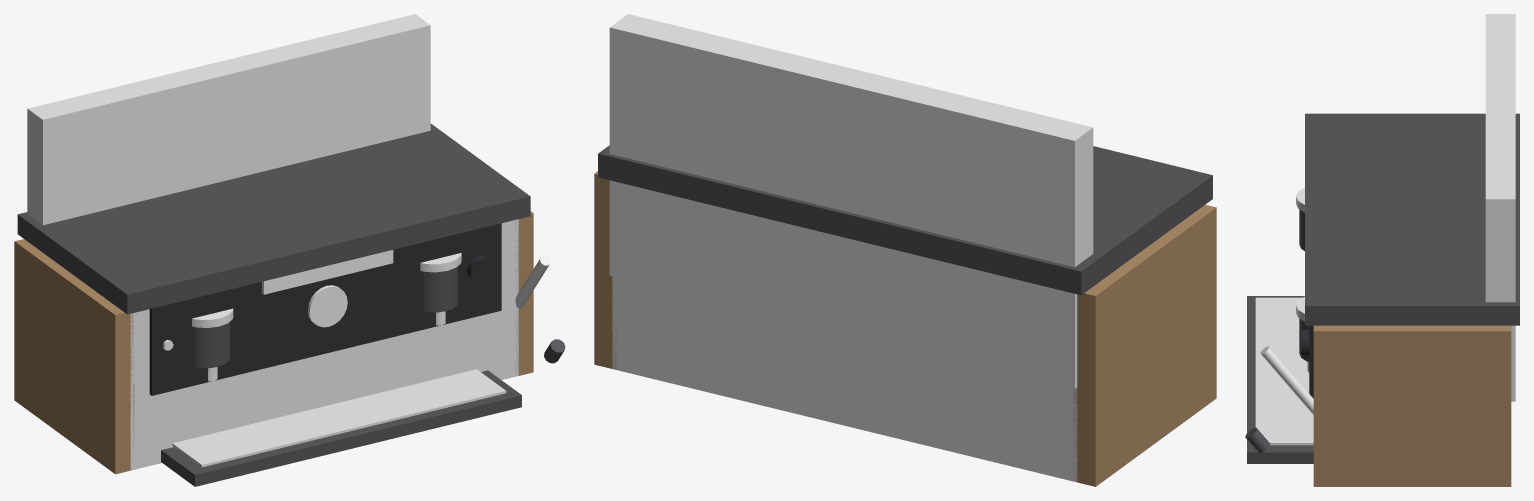
The model's file is EspressoMachine.glb.
3 renders of one model, left to right at view 1: azimuth 30°, elevation 25°; view 2: azimuth 150°, elevation 25°; view 3: azimuth 270°, elevation 25°, orthographic. The views are drawn at different scales.
Visible parts, largest first — view 1: EspressoMachine; view 2: EspressoMachine; view 3: EspressoMachine.
Part boxes in pixels (x1,y1,x2,y2): EspressoMachine: (14, 14, 565, 486); EspressoMachine: (594, 14, 1216, 486); EspressoMachine: (1245, 14, 1519, 486).
Bounding box in the file's own units: 1.1 × 0.72 × 0.6396.
